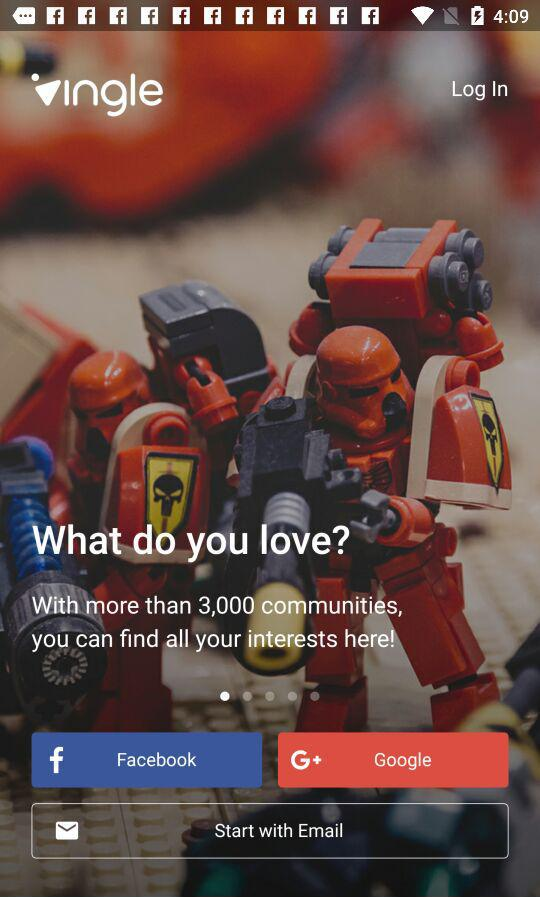BackgroundImage: (1, 32, 540, 897)
Image: (31, 73, 165, 119)
PageIndicator: (218, 690, 322, 703)
Text: (31, 595, 403, 654), (32, 523, 351, 564), (452, 81, 508, 102)
TextButton: (31, 802, 509, 859), (32, 731, 263, 788), (278, 732, 509, 789)
UpperTaskBar: (1, 1, 540, 32)
